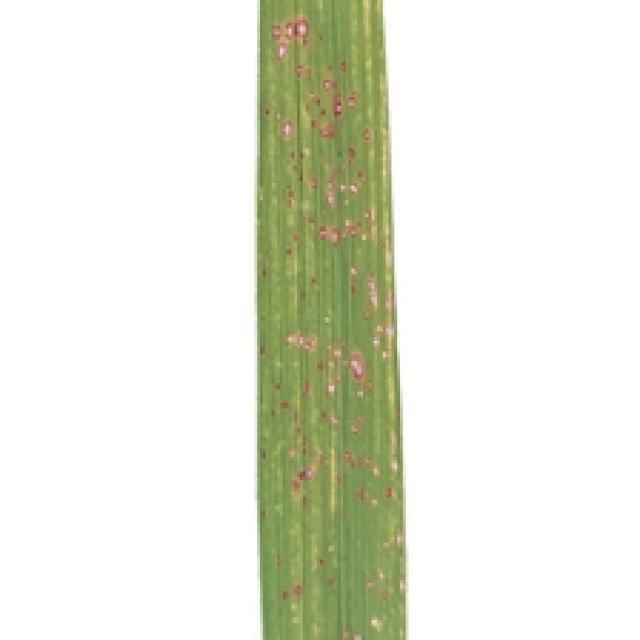Rice___Brown_Spot: (257, 1, 409, 637)
